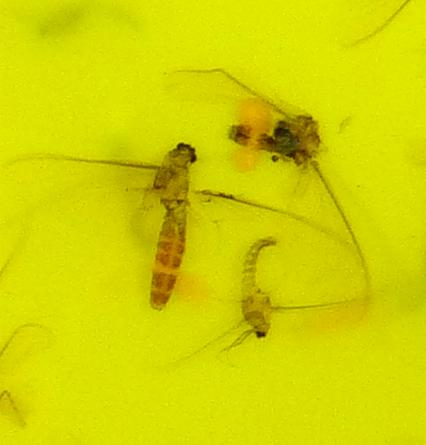Ephemeroptera: (100, 139, 200, 310), (226, 100, 326, 184), (234, 227, 287, 345)
